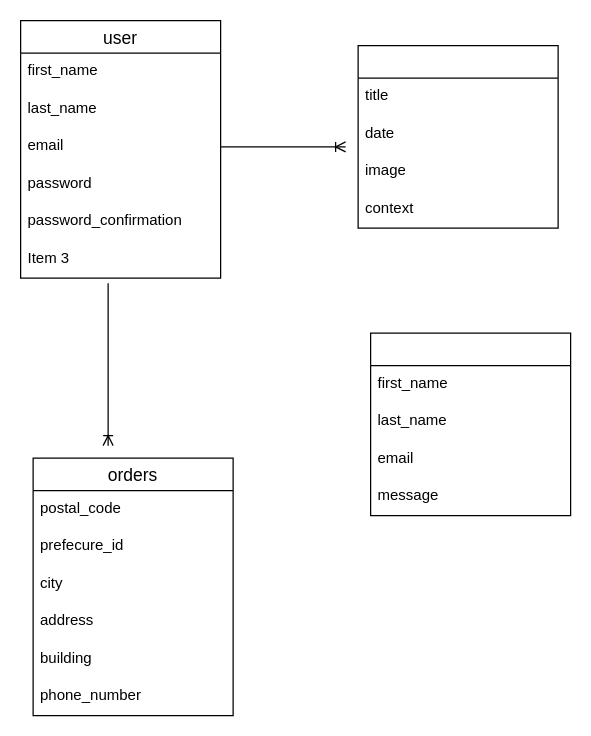
Some shapes in this 591 by 736 pixel diagram are drawn without their labels. Here are the shapes that lost their labels. From the top down, the box of each, then its label:
(357, 44, 558, 228): blog
(369, 332, 571, 516): inquiry
